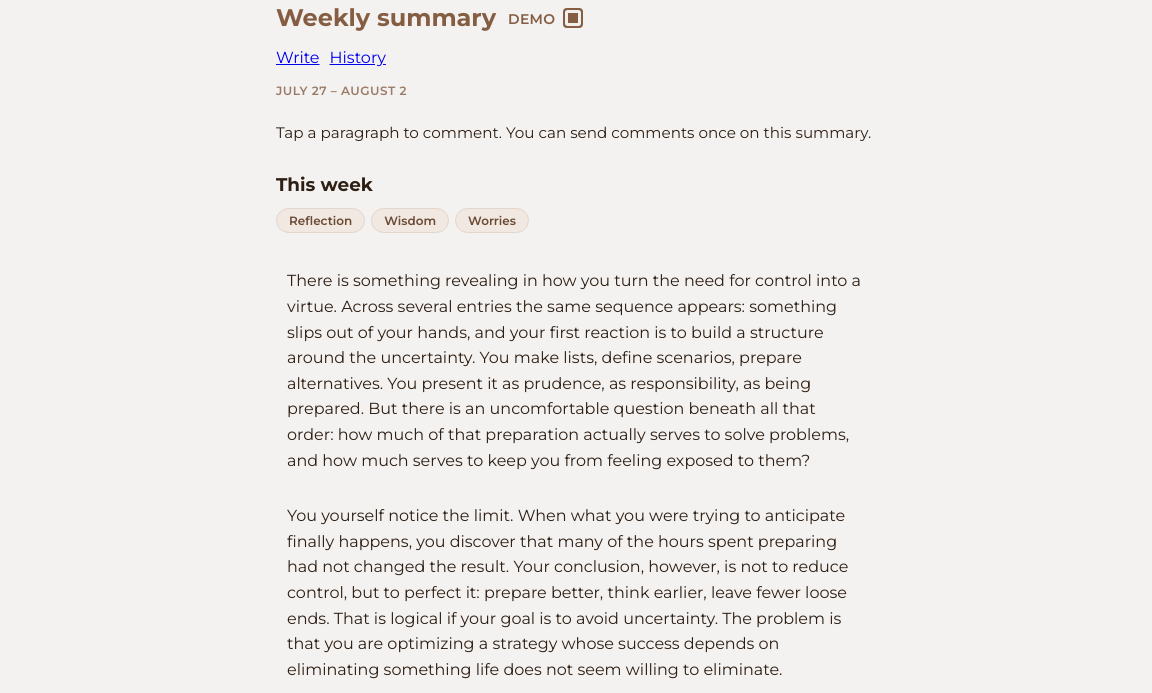
Scenario: JournalSummary page states › hides Write links while comments are queued and shows them after removal
Check: the link "Write" is shown, box [276,48,320,67]
Step 1. Click the button "turn the need for control into a virtue" → (576, 371), box [276,259,876,482]
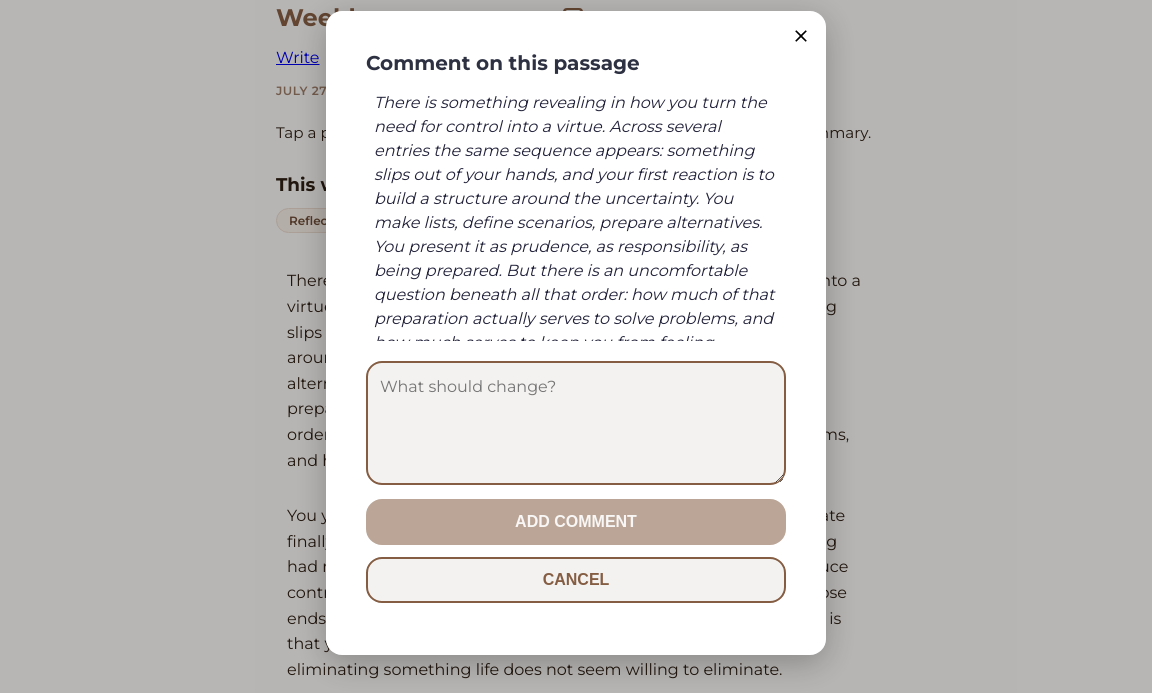
Check: the link "Write" is shown, box [276,48,320,67]
Step 2. Type "Too harsh." into the text box with placeholder "What should change?" → (576, 423), box [366,361,786,485]
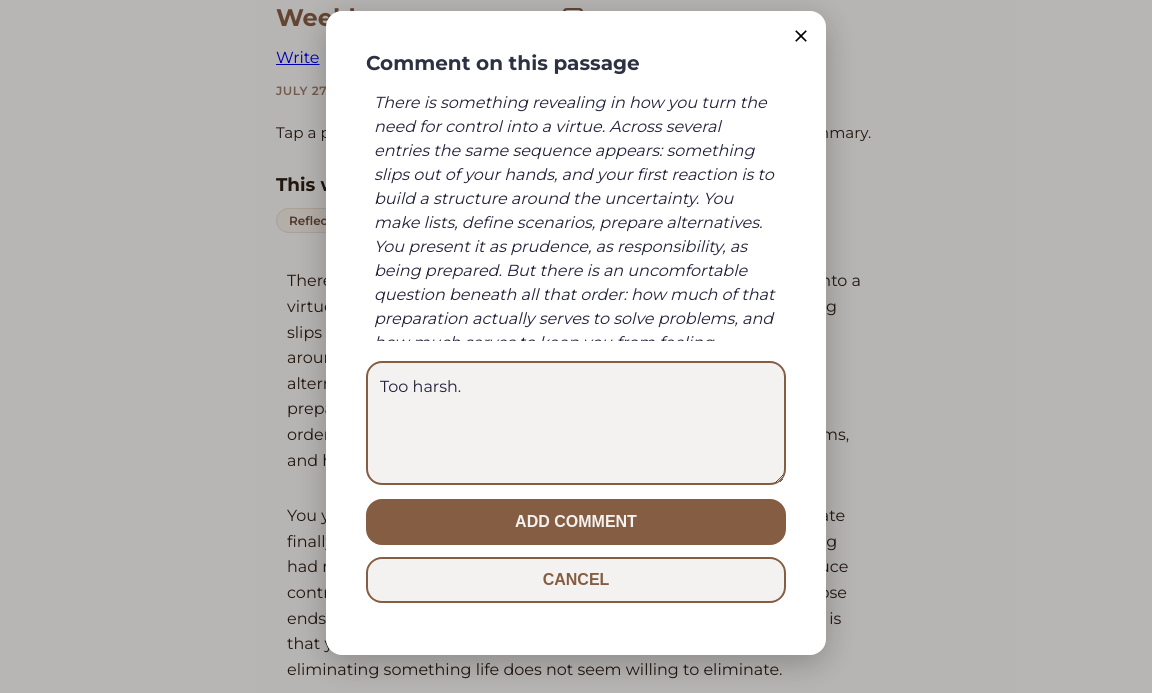
Step 3. Click the button "ADD COMMENT" → (576, 522), box [366,499,786,545]
(page scrolled)
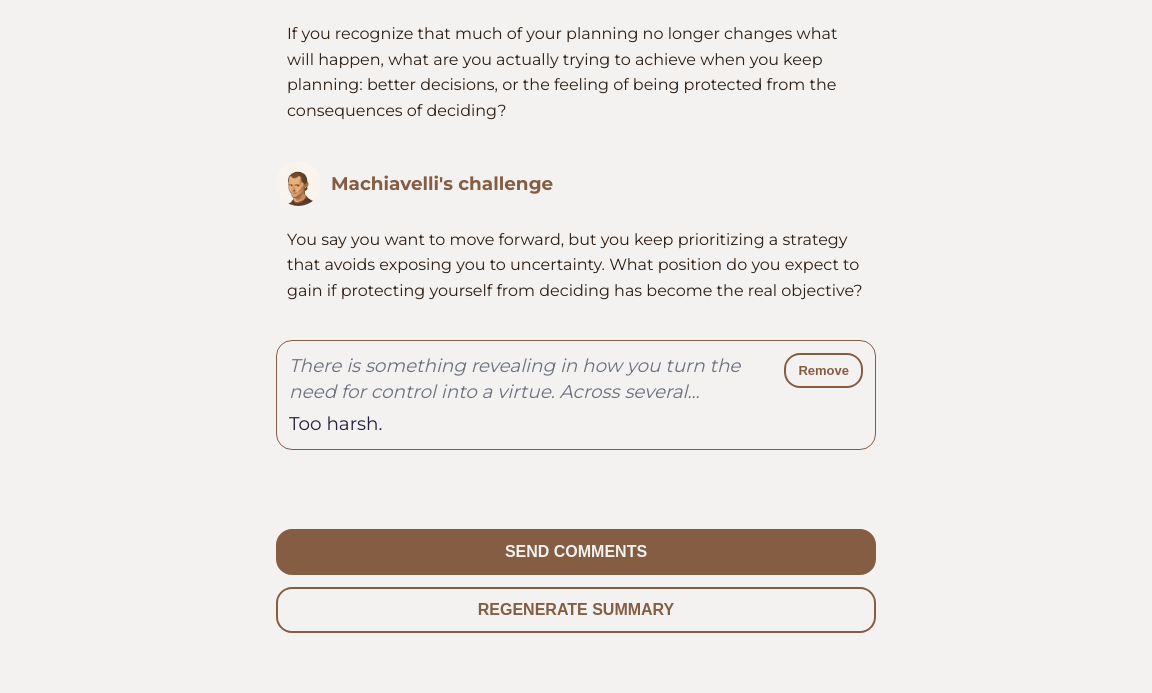
Check: the link "Write" is gone
Step 4. Click the button "Remove" → (824, 371), box [784,353,863,388]
(page scrolled)
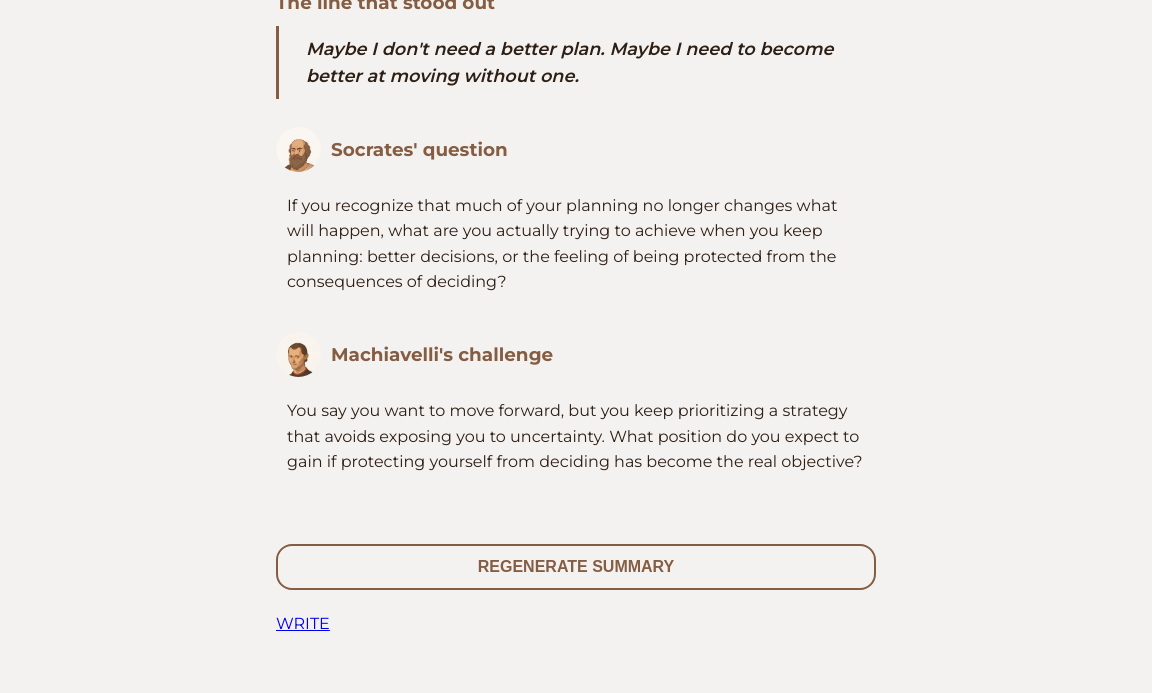
Check: the link "WRITE" is shown, box [276,614,330,633]
